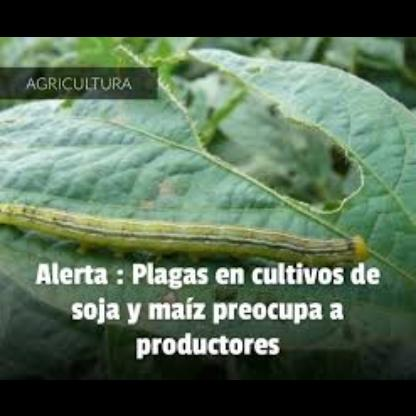agujero: (128, 80, 370, 178)
